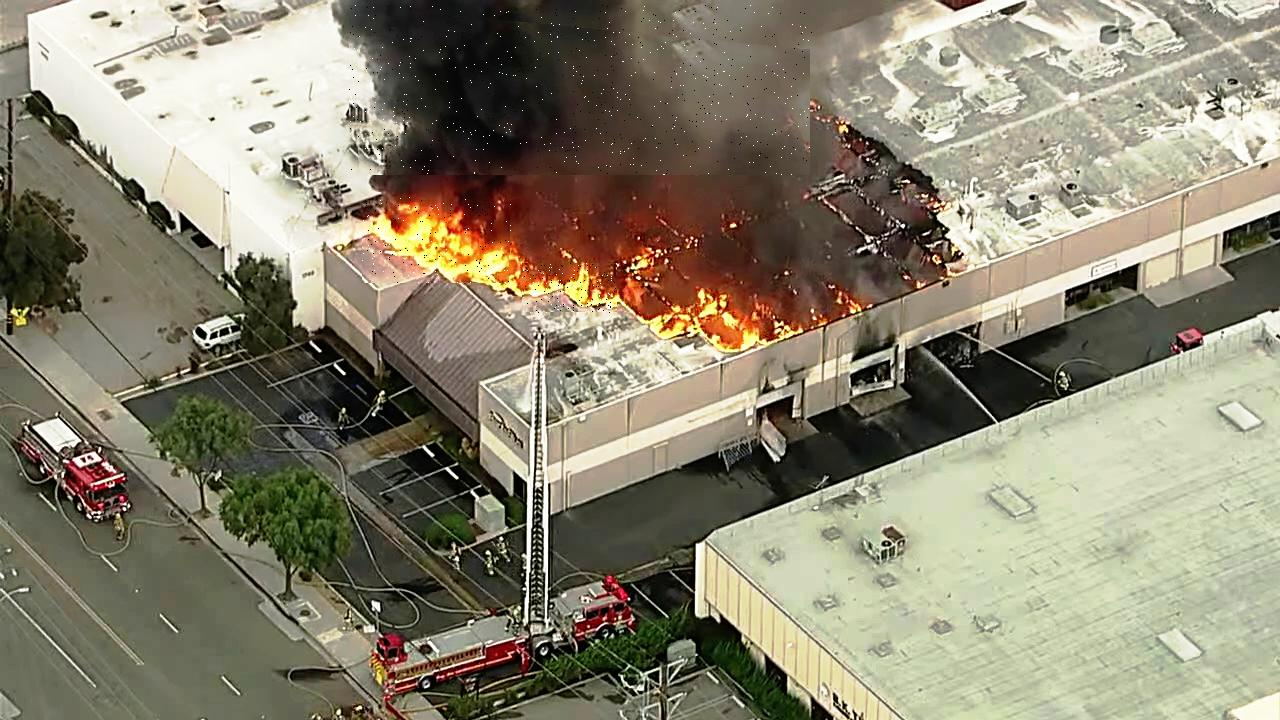fire: (362, 197, 511, 283), (522, 264, 617, 315)
smoke: (350, 5, 813, 175)
